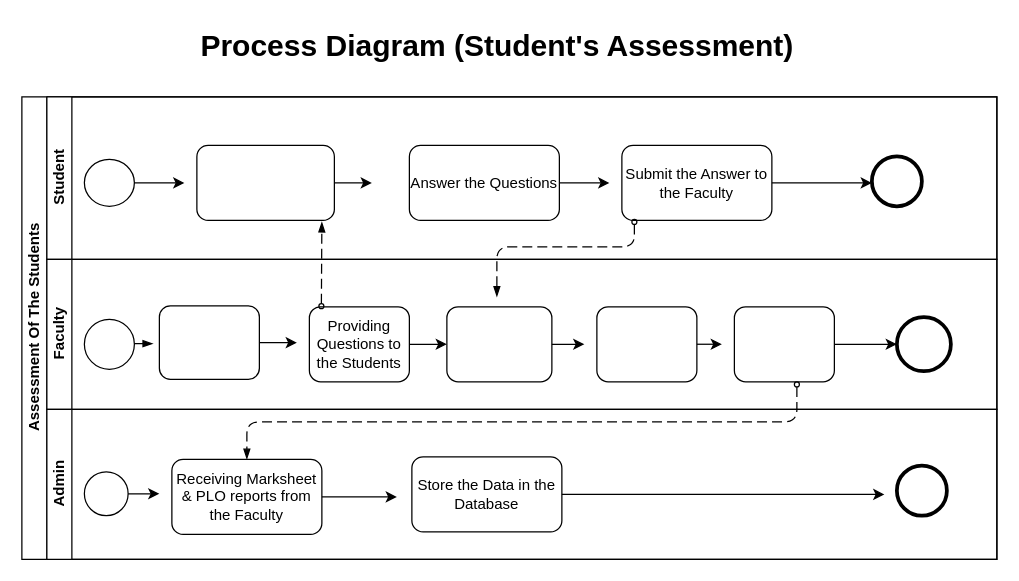
The diagram is 1019 pixels wide and 581 high, and some of its shapes have lost their labels. The centre of each missing label's shape, as x and y in pixels:
"Create Question For Students" belongs at (x=208, y=342).
"Evaluating the Answer Papers" belongs at (x=646, y=344).
"Provide the marksheet & PLO reports" belongs at (x=783, y=344).
"Receive Questions From the Faculty" belongs at (x=265, y=182).
"Receiving Answers from the Students" belongs at (x=499, y=344).
